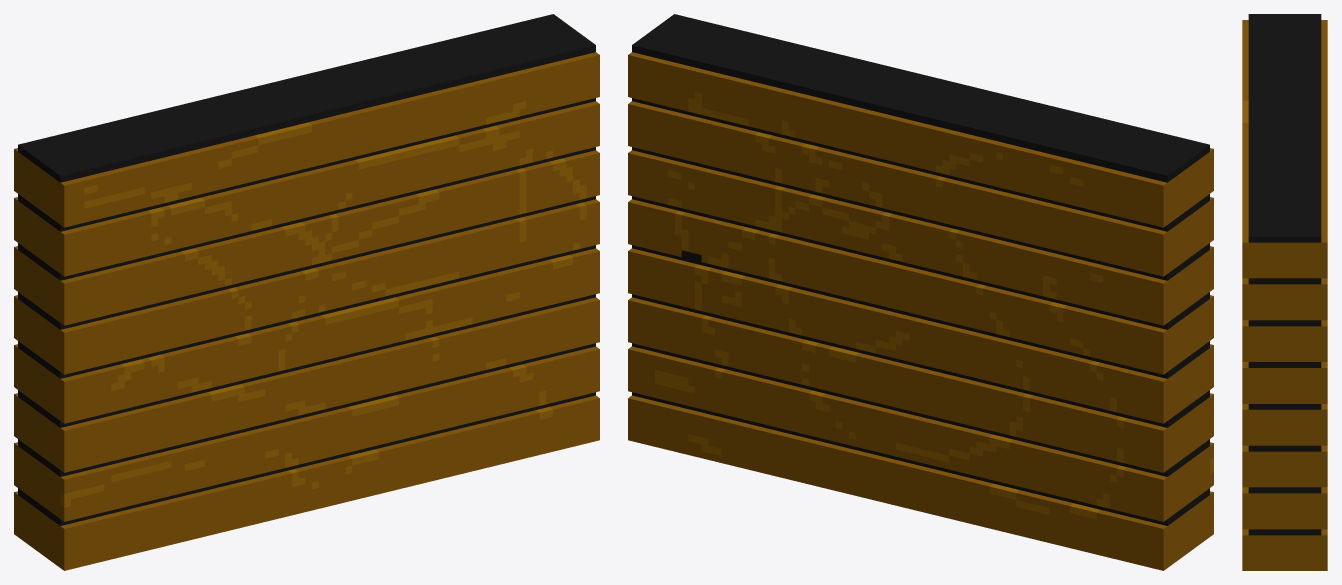
Rendered from wall.vox.obj.
The picture shows the model from 3 angles, left to right: view 1: azimuth 30°, elevation 25°; view 2: azimuth 150°, elevation 25°; view 3: azimuth 270°, elevation 25°; orthographic projection. The views are drawn at different scales.
Bounding box in the file's own units: 8 × 5.6 × 1.3.
Materials: 1 (1 with a texture image).
